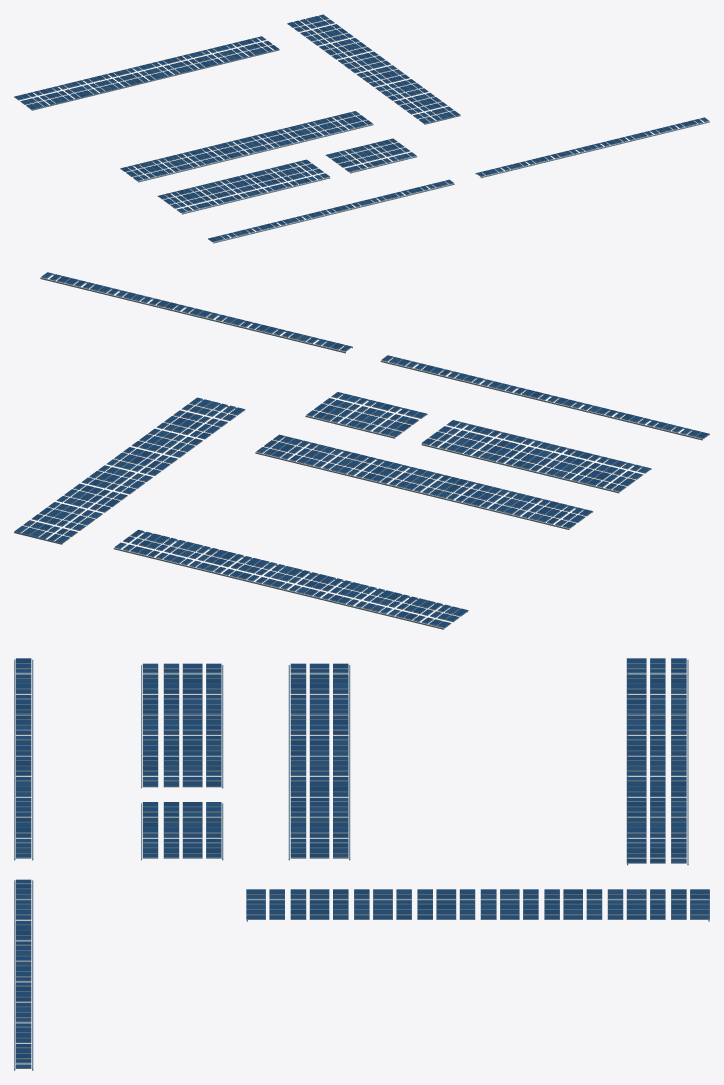
Rendered from SM_MPRH_SolarBank_02_1.fbx.
3 views of the same model, one above another, from view 1: azimuth 30°, elevation 25°; view 2: azimuth 150°, elevation 25°; view 3: azimuth 270°, elevation 25° (orthographic). The views are drawn at different scales.
Parts seen in each view (by area): view 1: SM_MPRH_SolarBank_02_1; view 2: SM_MPRH_SolarBank_02_1; view 3: SM_MPRH_SolarBank_02_1.
Boxes of the visible parts, x1=… form: SM_MPRH_SolarBank_02_1: x1=14, y1=14, x2=709, y2=243; SM_MPRH_SolarBank_02_1: x1=14, y1=272, x2=709, y2=629; SM_MPRH_SolarBank_02_1: x1=14, y1=658, x2=709, y2=1070.
Bounding box in the file's own units: 8944 × 6420 × 24.6.
